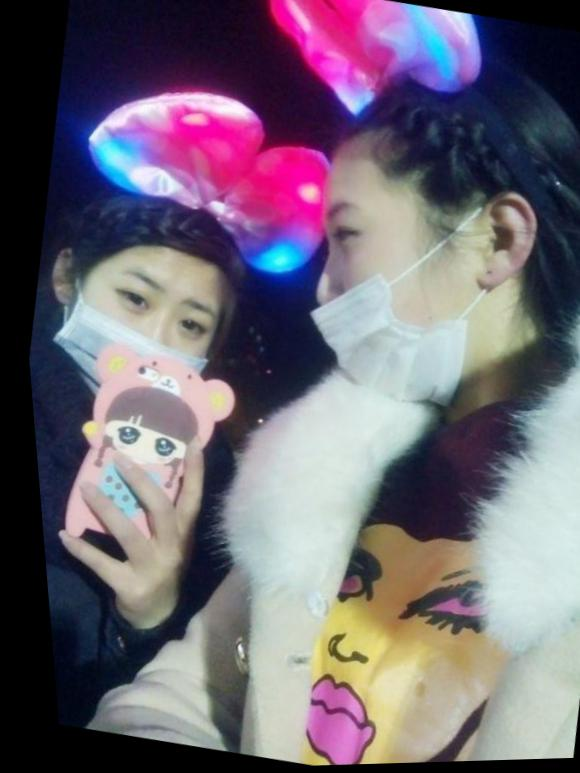WRONG: (284, 175, 493, 420), (44, 243, 232, 425)
